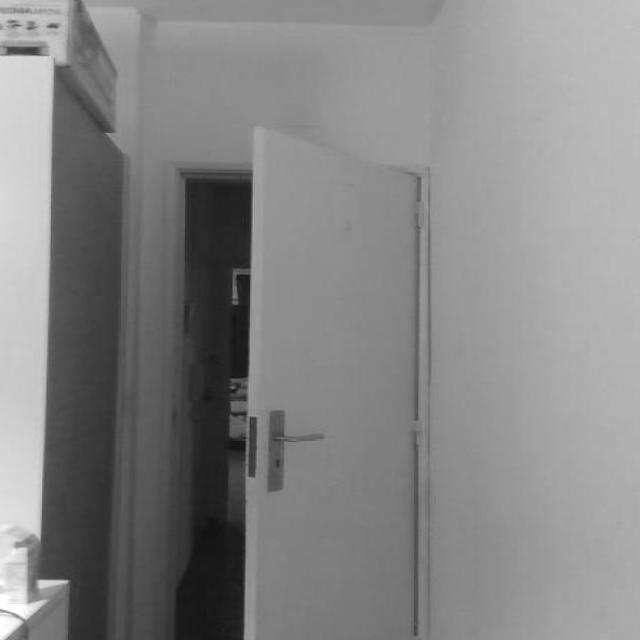door: (242, 125, 423, 638)
